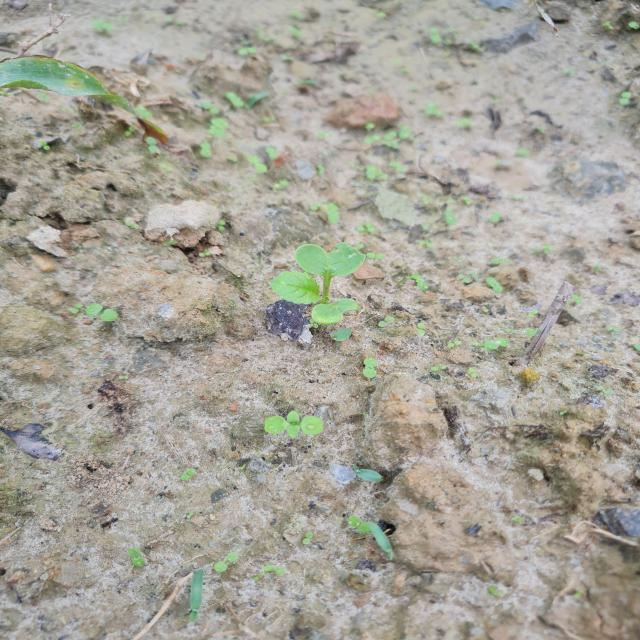weed: (237, 383, 343, 457)
